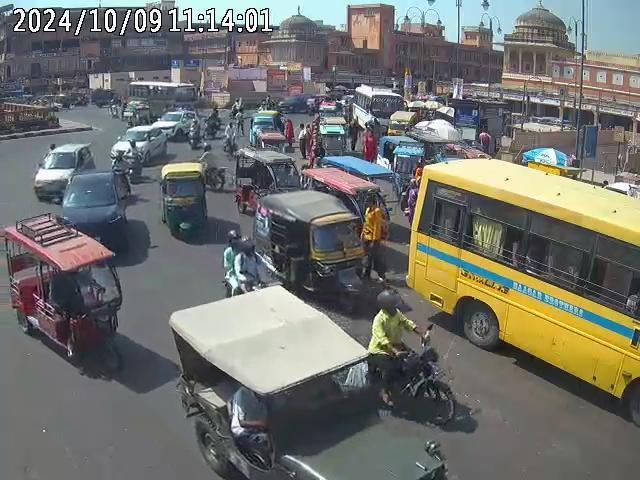auto: (1, 209, 124, 365), (252, 191, 366, 312), (233, 147, 300, 218), (158, 160, 209, 241), (248, 109, 287, 150)
bus: (409, 158, 640, 408), (351, 85, 404, 129), (128, 80, 198, 111)
car: (168, 281, 448, 480), (55, 171, 130, 241), (36, 143, 94, 197), (110, 124, 170, 163)
helmet: (378, 292, 401, 316)
motorbike-rider: (367, 288, 455, 423), (196, 142, 226, 192)
person: (233, 184, 260, 216), (296, 120, 310, 160), (285, 119, 296, 148)
scooty-rider: (110, 153, 136, 199), (186, 118, 204, 150)
